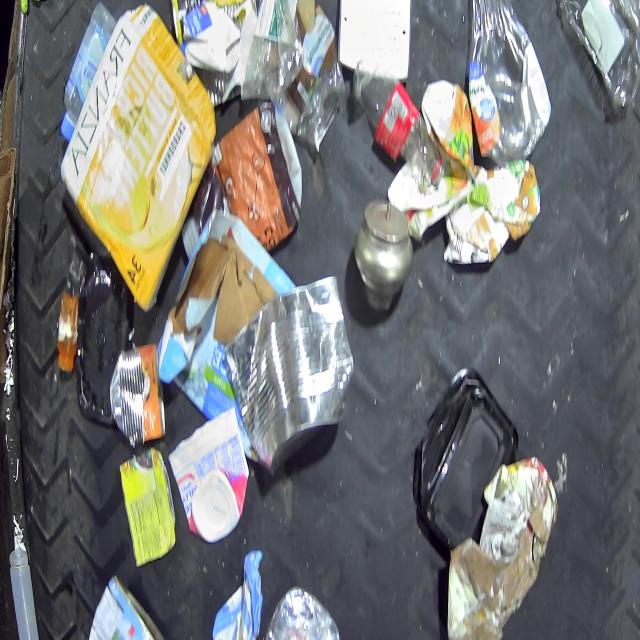can: (223, 278, 353, 470), (86, 573, 172, 640), (108, 344, 164, 446)
plastic_bottle: (468, 0, 548, 160), (347, 68, 439, 182), (562, 0, 640, 110), (60, 2, 118, 142), (248, 0, 302, 103), (259, 584, 342, 640)
